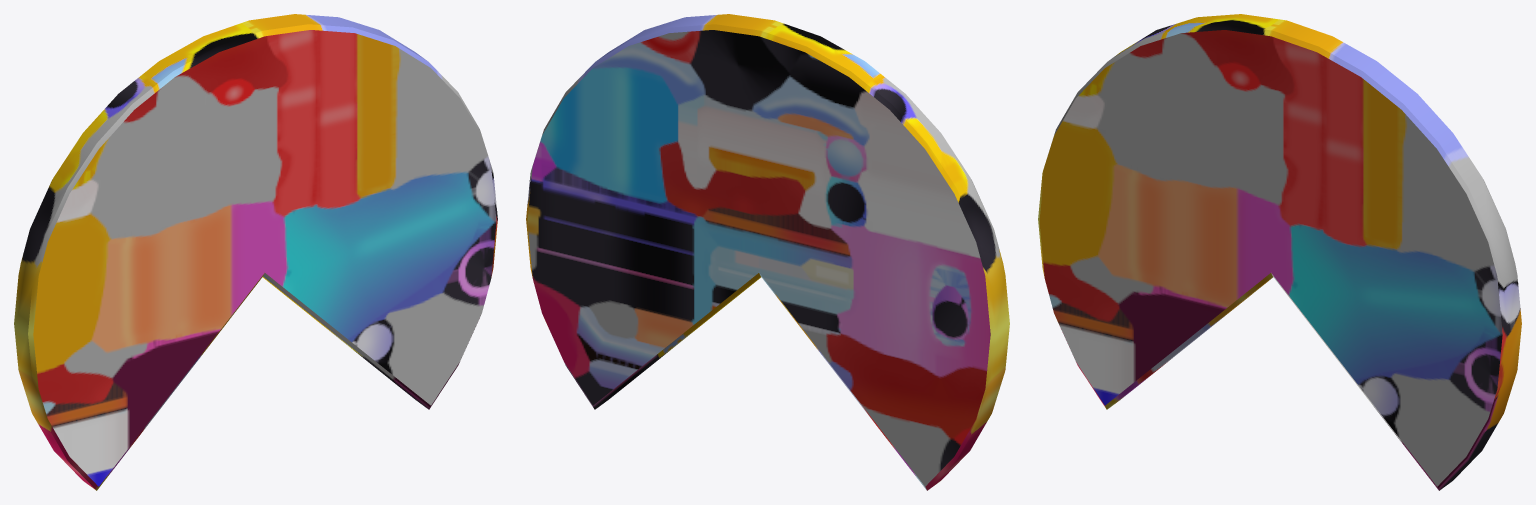
Rendered from dif9.2.fbx.
The picture shows the model from 3 angles, left to right: view 1: azimuth 30°, elevation 25°; view 2: azimuth 150°, elevation 25°; view 3: azimuth 330°, elevation 25°; orthographic projection.
Parts seen in each view (by area): view 1: Circle.003; view 2: Circle.003; view 3: Circle.003.
Boxes of the visible parts, left/top/right/bottom form: Circle.003: left=14, top=14, right=497, bottom=490; Circle.003: left=526, top=14, right=1009, bottom=490; Circle.003: left=1038, top=14, right=1521, bottom=490.
Bounding box in the file's own units: 1139 × 972 × 74.92.
